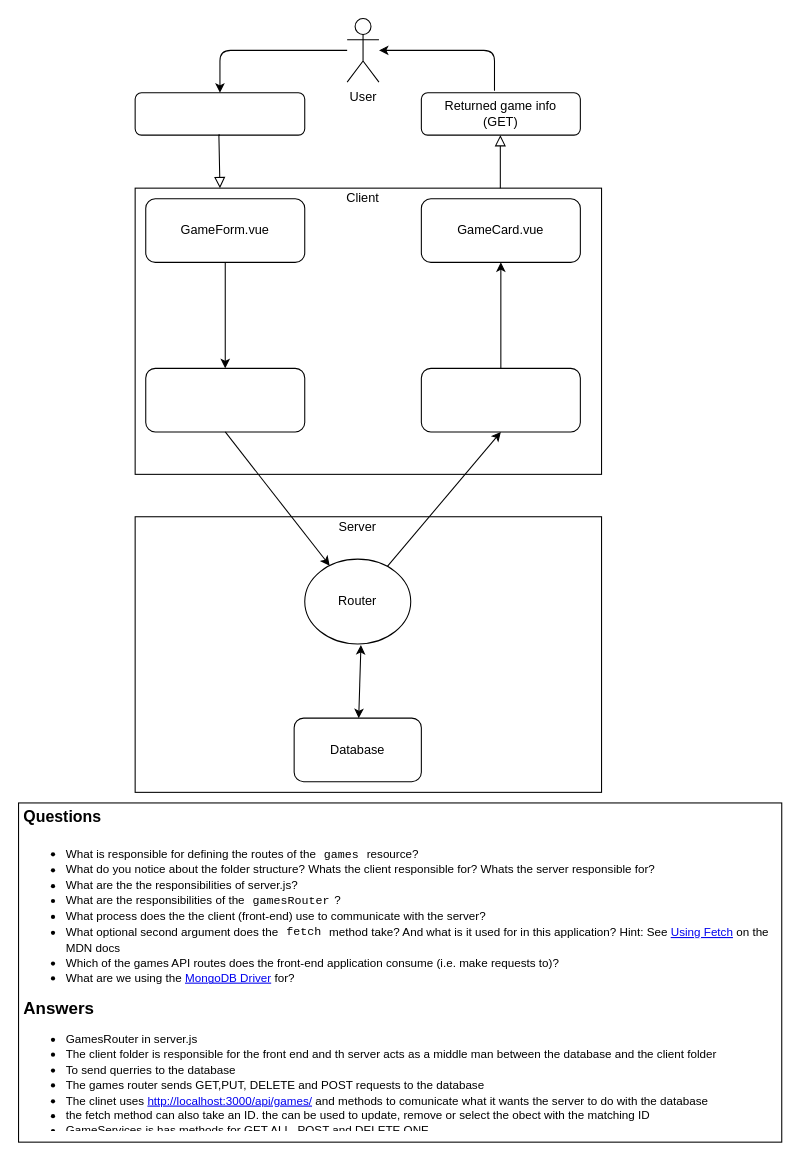
Some shapes in this 800 by 1161 pixel diagram are drawn without their labels. The shapes that lost their labels are listed below. From the top down, each one's centre as x and y in pixels, then its label:
(219,113): Game info submitted by user via form (POST)
(225,399): GameServices.js
(500,399): GameGrid.vue
